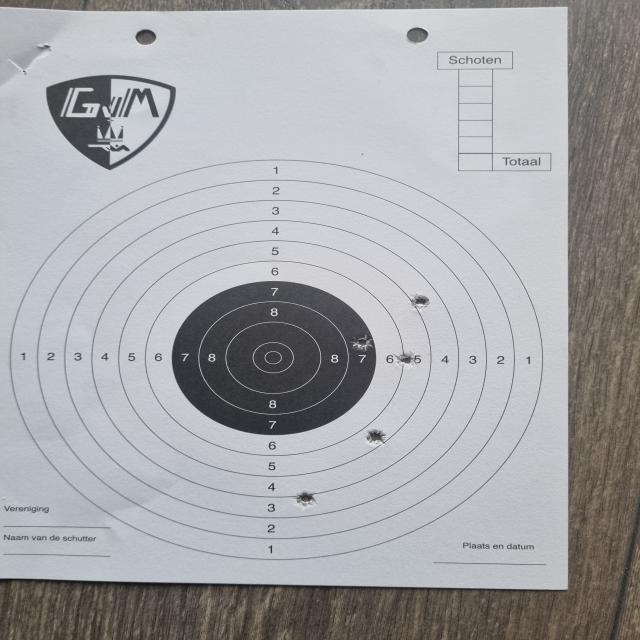4: (293, 490, 317, 508)
5: (363, 428, 388, 446), (408, 294, 429, 310)
6: (395, 351, 415, 368)
7: (352, 334, 373, 351)
Target: (11, 160, 544, 560)
black_contour: (172, 282, 376, 436)
